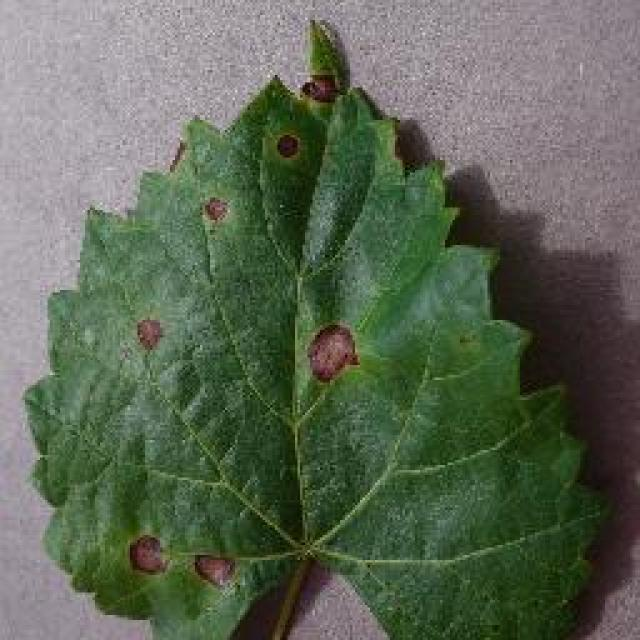Grape___Black_rot: (13, 15, 613, 638)
